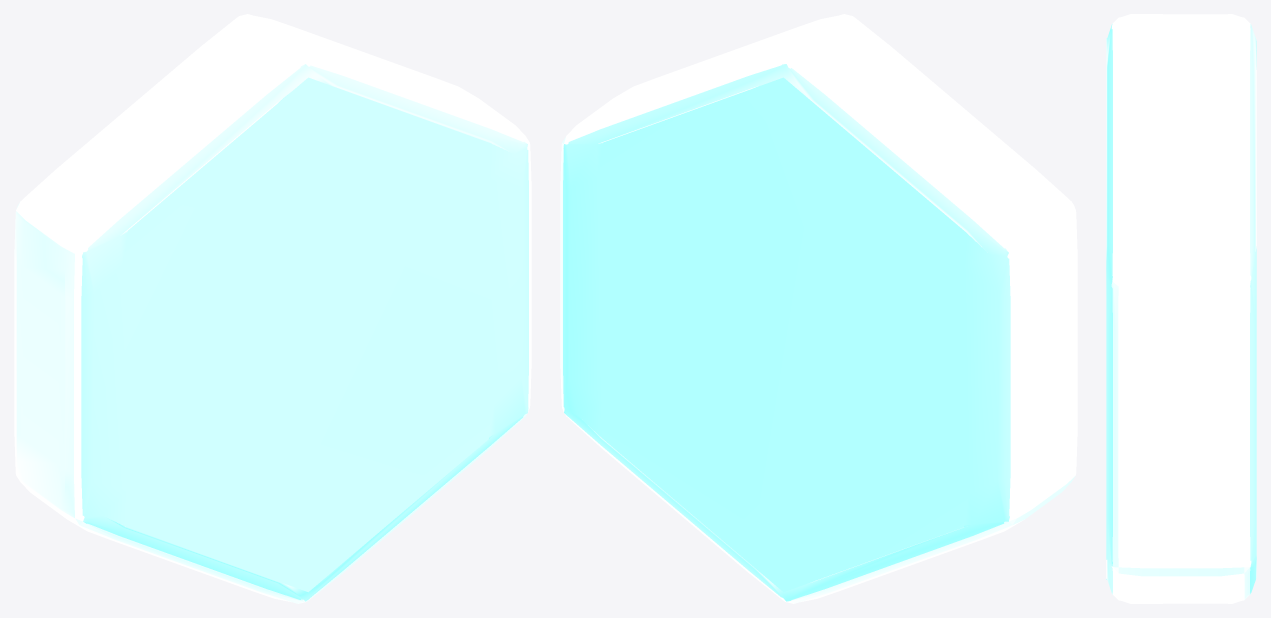
File: lugdunin.glb
3 renders of one model, left to right at view 1: azimuth 30°, elevation 25°; view 2: azimuth 150°, elevation 25°; view 3: azimuth 270°, elevation 25°, orthographic. The views are drawn at different scales.
Parts seen in each view (by area): view 1: lugKern; view 2: lugKern; view 3: lugKern.
Boxes of the visible parts, <box> form: lugKern: <box>14,14,531,603</box>; lugKern: <box>560,14,1077,603</box>; lugKern: <box>1106,14,1256,603</box>.
Size of the model in its own units: 1.21 by 1.37 by 0.32.
